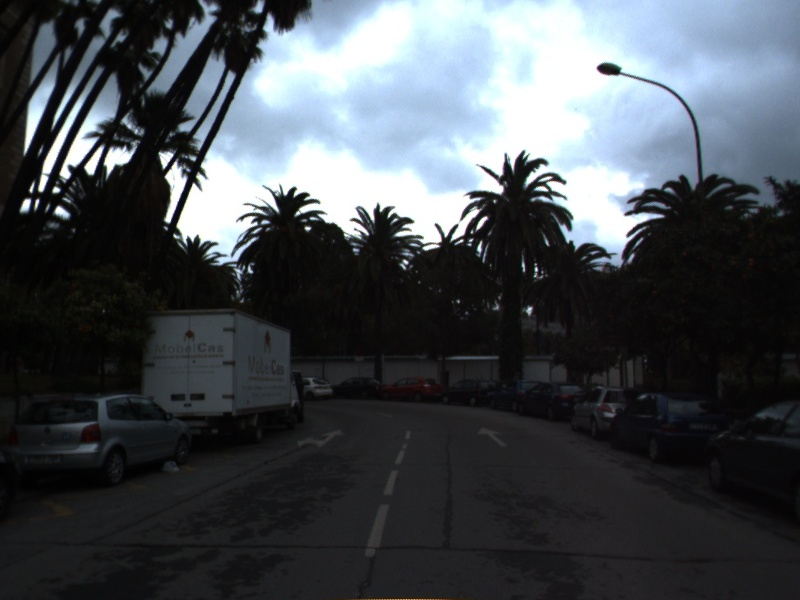STRAIGHT: (475, 425, 510, 449)
STRAIGHT_LEFT: (295, 427, 347, 450)
